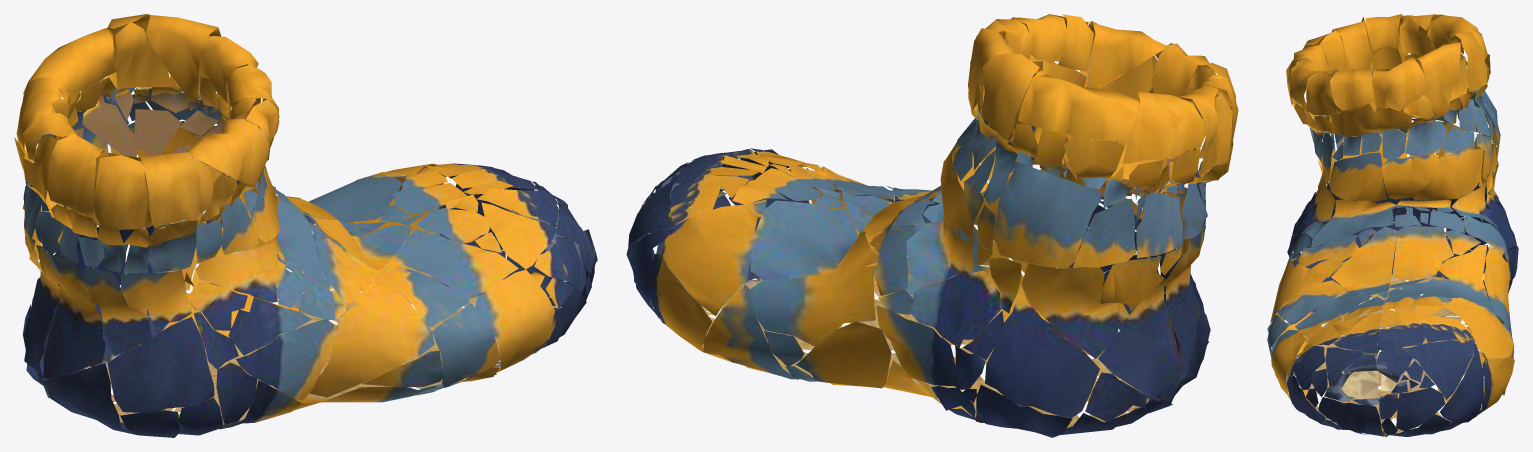
The model's file is sock.glb.
3 renders of one model, left to right at view 1: azimuth 30°, elevation 25°; view 2: azimuth 150°, elevation 25°; view 3: azimuth 270°, elevation 25°, orthographic. The views are drawn at different scales.
Visible parts, largest first — view 1: sock; view 2: sock; view 3: sock.
Part boxes in pixels (x1,y1,x2,y2): sock: [14, 14, 597, 437]; sock: [626, 14, 1238, 437]; sock: [1267, 14, 1518, 437].
Bounding box in the file's own units: 0.155 × 0.0955 × 0.0793.
1 material, 1 textured.
